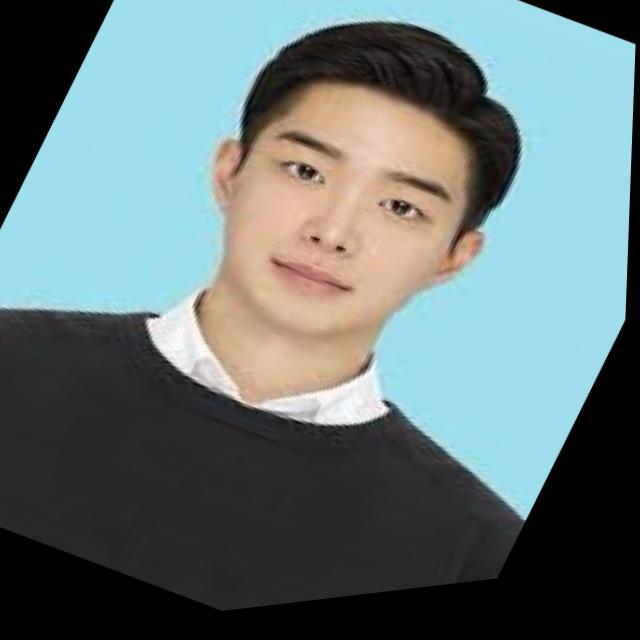Nonhelmet: (200, 16, 526, 349)
